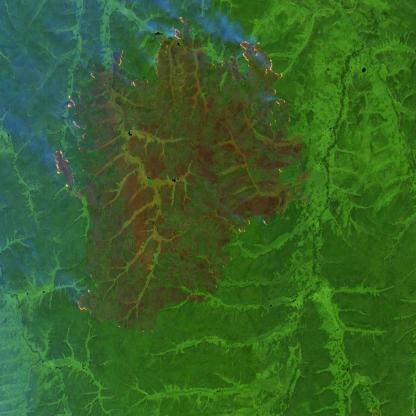fire: (51, 9, 293, 193), (74, 276, 100, 319), (234, 207, 257, 242)
